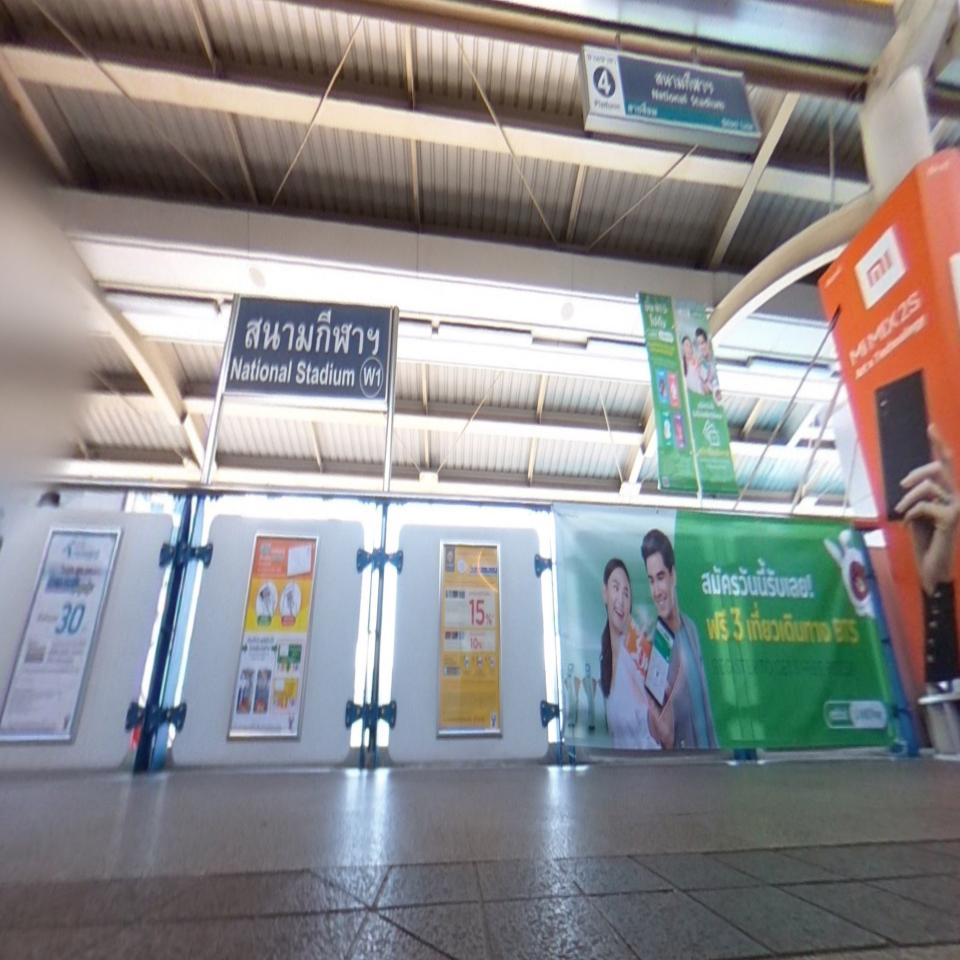signage: (222, 291, 394, 411), (651, 55, 727, 132)
